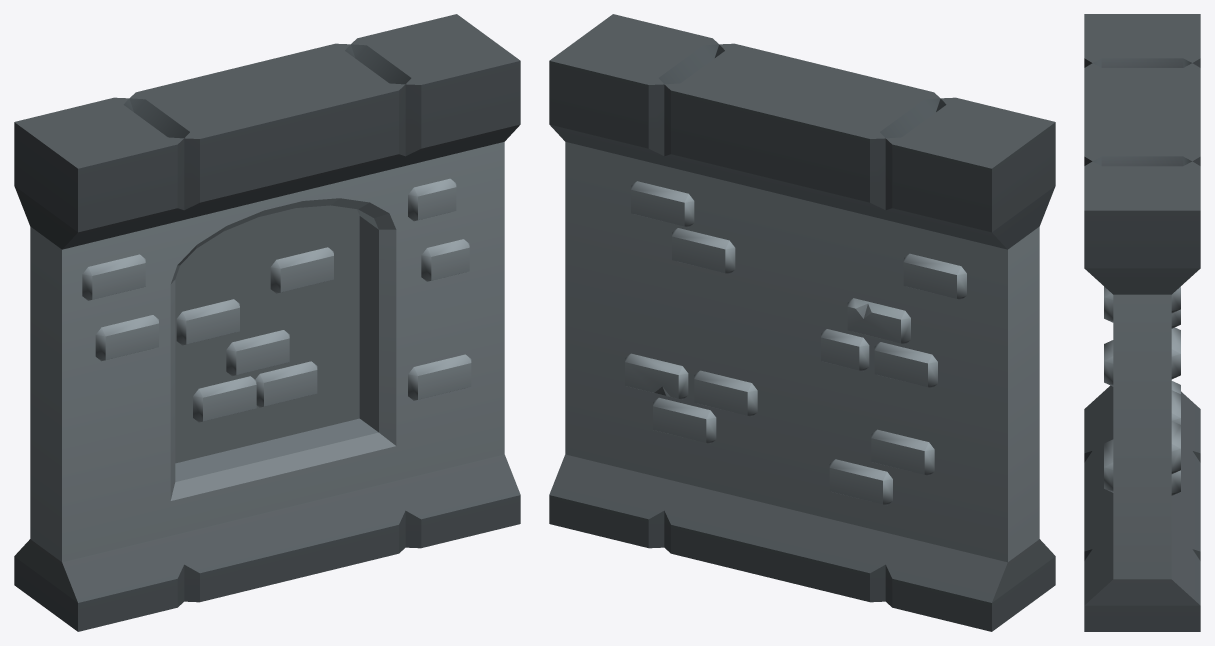
The model's file is wall_alcove_E.glb.
3 renders of one model, left to right at view 1: azimuth 30°, elevation 25°; view 2: azimuth 150°, elevation 25°; view 3: azimuth 270°, elevation 25°, orthographic. The views are drawn at different scales.
Parts seen in each view (by area): view 1: Item; view 2: Item; view 3: Item.
Boxes of the visible parts, box(x1,y1,x2,y2) form: Item: box(14, 14, 520, 631); Item: box(549, 14, 1055, 631); Item: box(1084, 14, 1200, 631).
Bounding box in the file's own units: 4 × 4 × 1.
1 material, 1 textured.
